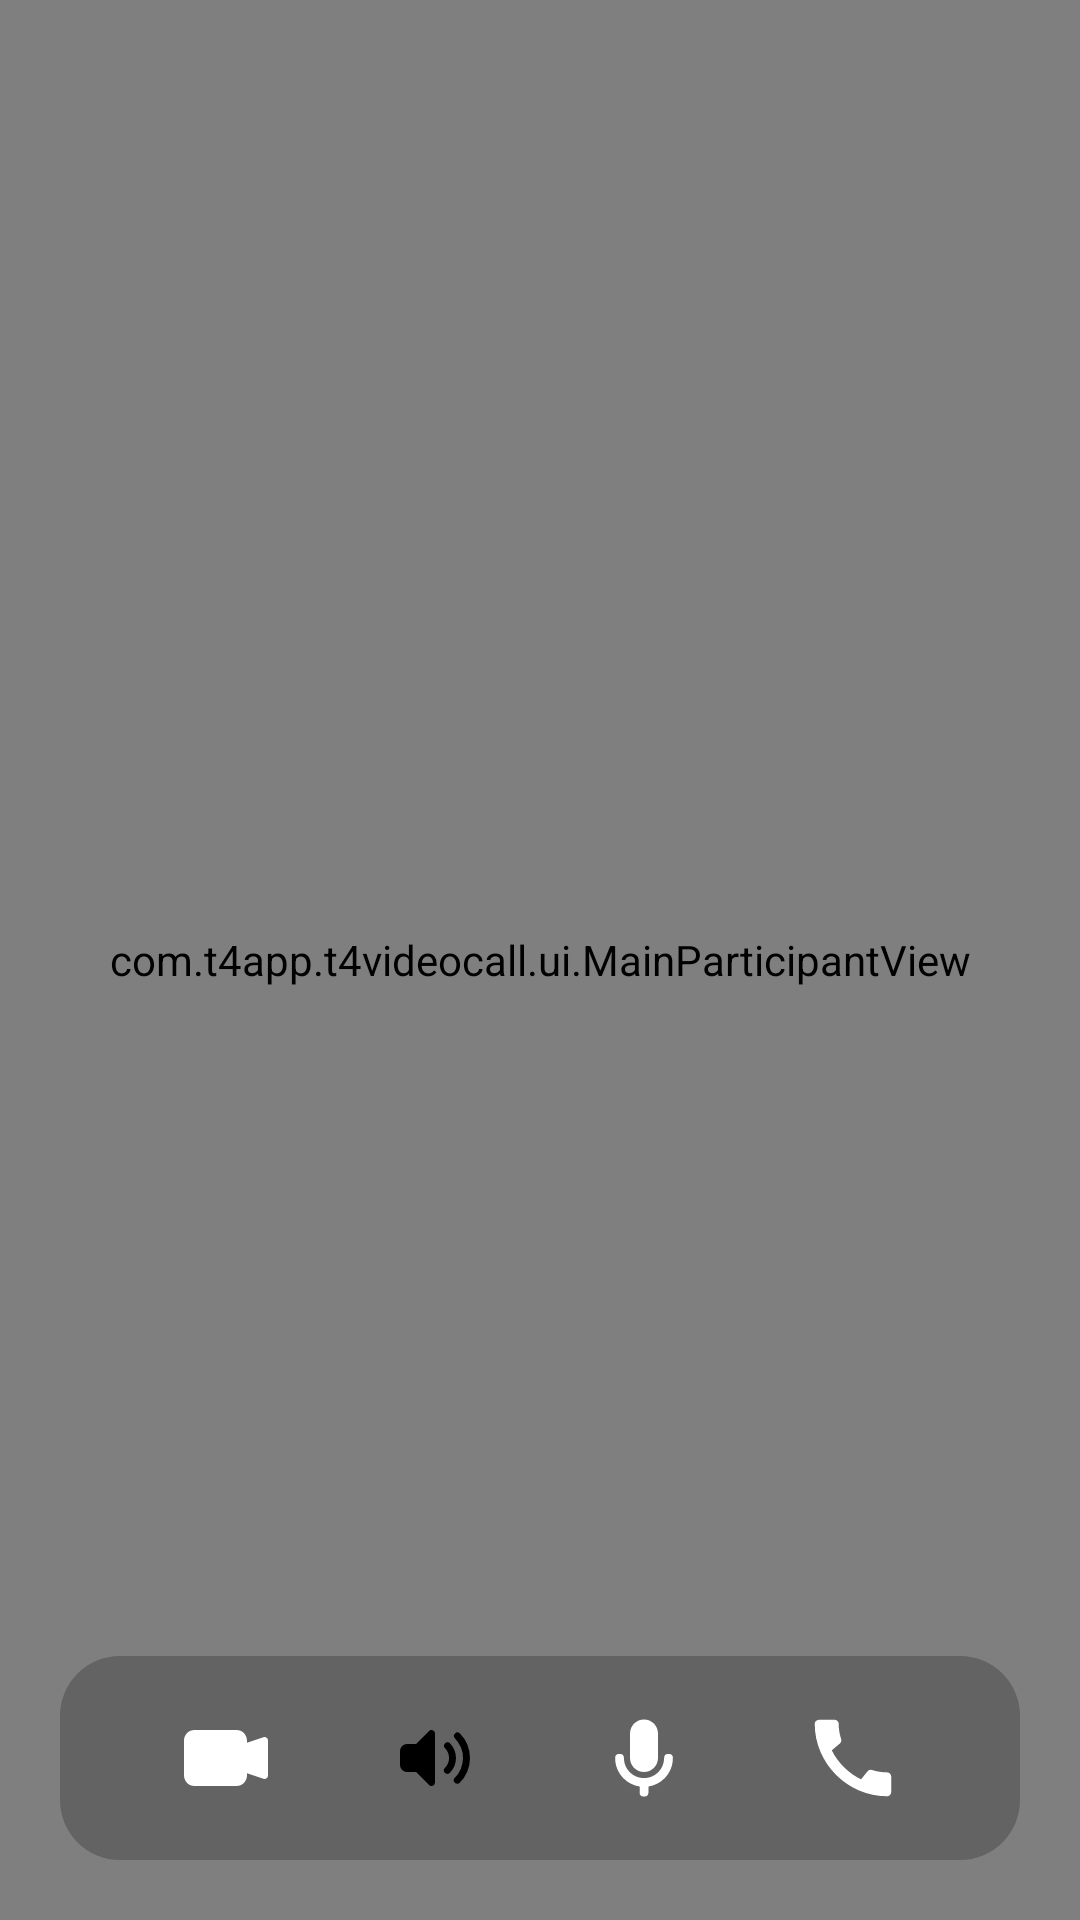

Where icons sit on this 1080x1920 app screen, as (x1=x1, y1=y1, x2=x2, y2=y2):
max sound: (x1=400, y1=1730, x2=470, y2=1786)
mic: (x1=615, y1=1719, x2=673, y2=1797)
video cam: (x1=184, y1=1730, x2=268, y2=1786)
